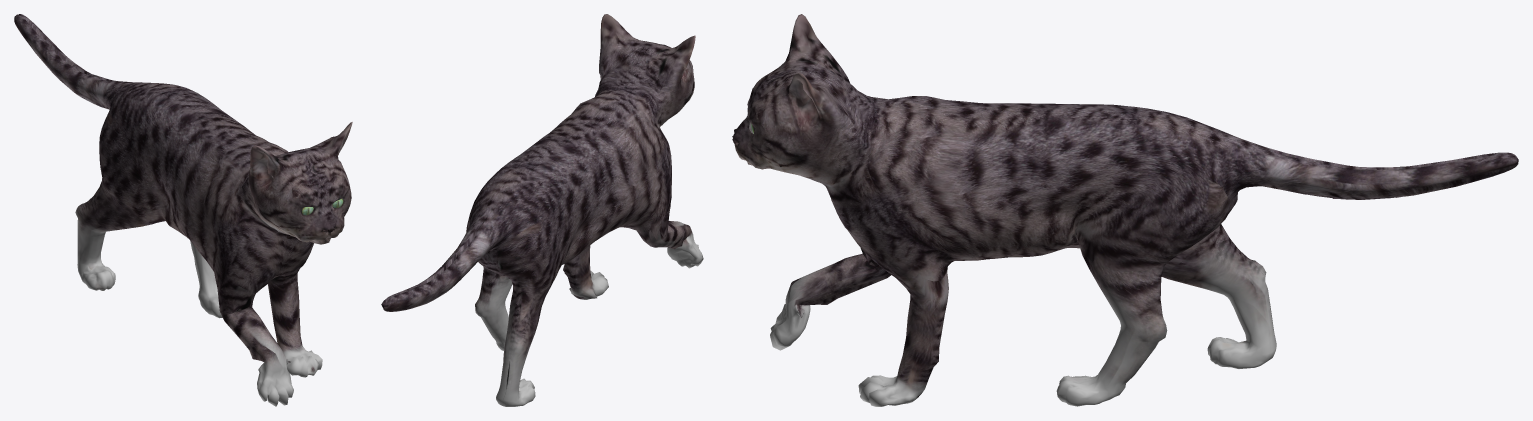
File: domestic_cat_clean.glb
3 renders of one model, left to right at view 1: azimuth 30°, elevation 25°; view 2: azimuth 150°, elevation 25°; view 3: azimuth 270°, elevation 25°, orthographic. The views are drawn at different scales.
Visible parts, largest first — view 1: domestic_cat_clean; view 2: domestic_cat_clean; view 3: domestic_cat_clean.
Boxes of the visible parts, box(x1,y1,x2,y2) form: domestic_cat_clean: box(14, 14, 352, 406); domestic_cat_clean: box(381, 14, 703, 406); domestic_cat_clean: box(732, 14, 1518, 406).
Size of the model in its own units: 0.1025 by 0.2553 by 0.5365.
3 materials, 2 textured.
